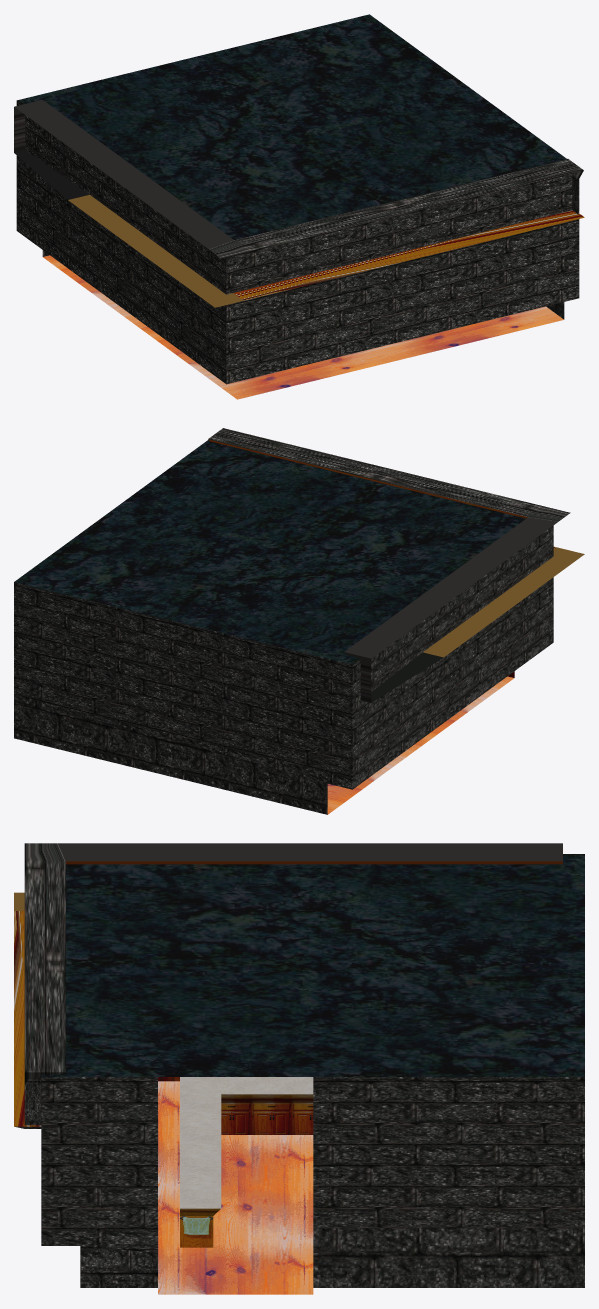
The model's file is kitchen.gltf.
3 views of the same model, one above another, from view 1: azimuth 30°, elevation 25°; view 2: azimuth 150°, elevation 25°; view 3: azimuth 270°, elevation 25° (orthographic). The views are drawn at different scales.
Parts seen in each view (by area): view 1: Cube; view 2: Cube; view 3: Cube.
Part boxes in pixels (bbox=[...]): Cube: bbox=[14, 14, 584, 399]; Cube: bbox=[14, 428, 584, 814]; Cube: bbox=[14, 843, 584, 1294].
Bounding box in the file's own units: 14.84 × 6.1 × 14.71.
Materials: 7 (7 with a texture image).
